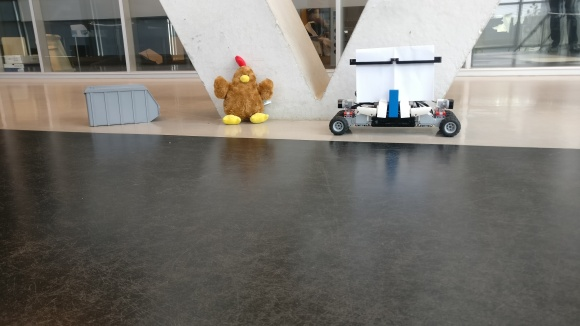car: (328, 44, 460, 137)
chicken: (213, 54, 275, 126)
tray: (83, 83, 161, 128)
